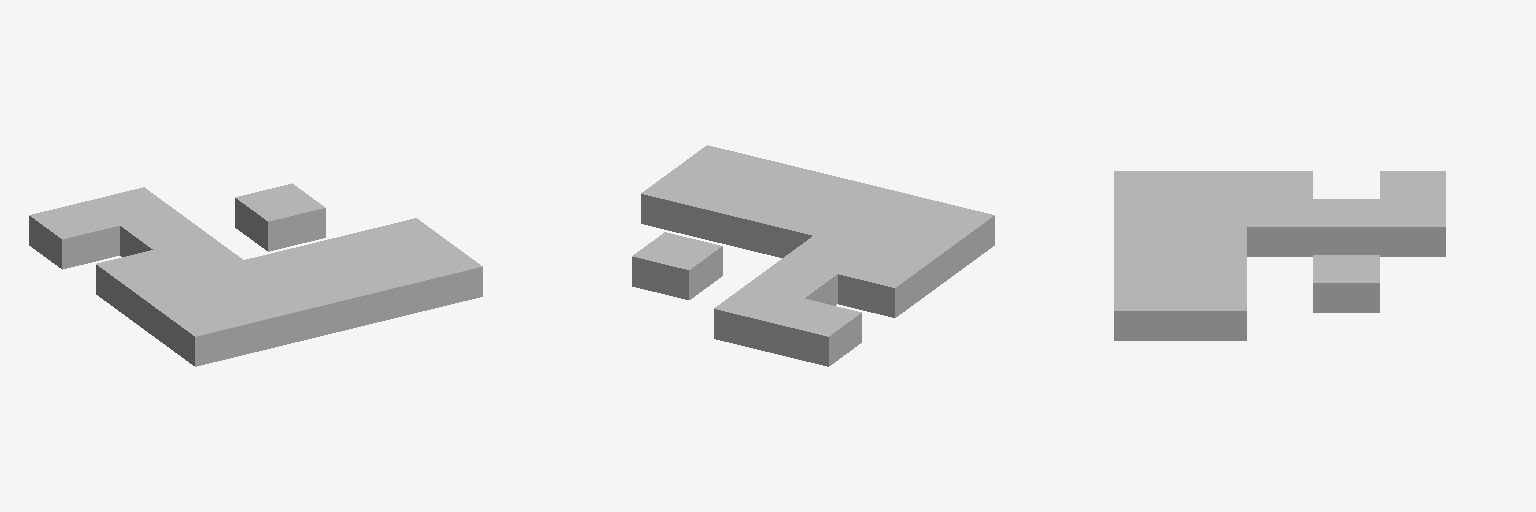
File: 83f_block.obj
3 views of the same model, side by side, from view 1: azimuth 30°, elevation 25°; view 2: azimuth 150°, elevation 25°; view 3: azimuth 270°, elevation 25° (orthographic).
Visible parts, largest first — view 1: foil.block.0.4_block.5360, foil.block.0.0_block.5356, foil.block.3.3_block.5370, foil.block.4.0_block.5371, foil.block.2.0_block.5366, foil.block.1.0_block.5361, foil.block.3.0_block.5368, foil.block.0.2_block.5358, foil.block.0.1_block.5357, foil.block.1.3_block.5364, foil.block.1.1_block.5362, foil.block.2.1_block.5367 (+4 smaller); view 2: foil.block.3.3_block.5370, foil.block.0.4_block.5360, foil.block.0.2_block.5358, foil.block.3.1_block.5369, foil.block.4.1_block.5372, foil.block.1.4_block.5365, foil.block.2.1_block.5367, foil.block.0.1_block.5357, foil.block.0.0_block.5356, foil.block.1.3_block.5364, foil.block.2.0_block.5366, foil.block.1.1_block.5362 (+4 smaller); view 3: foil.block.3.3_block.5370, foil.block.4.1_block.5372, foil.block.1.2_block.5363, foil.block.1.4_block.5365, foil.block.4.0_block.5371, foil.block.1.3_block.5364, foil.block.0.1_block.5357, foil.block.1.1_block.5362, foil.block.2.1_block.5367, foil.block.3.1_block.5369, foil.block.0.0_block.5356, foil.block.0.2_block.5358 (+4 smaller).
Part boxes in pixels (bbox=[...]): foil.block.0.4_block.5360: bbox=[29, 201, 119, 269]; foil.block.0.0_block.5356: bbox=[162, 298, 252, 366]; foil.block.3.3_block.5370: bbox=[235, 183, 325, 251]; foil.block.4.0_block.5371: bbox=[392, 242, 482, 310]; foil.block.2.0_block.5366: bbox=[277, 270, 367, 338]; foil.block.1.0_block.5361: bbox=[220, 285, 309, 352]; foil.block.3.0_block.5368: bbox=[335, 257, 424, 324]; foil.block.0.2_block.5358: bbox=[96, 250, 184, 317]; foil.block.0.1_block.5357: bbox=[129, 274, 218, 341]; foil.block.1.3_block.5364: bbox=[120, 212, 209, 256]; foil.block.1.1_block.5362: bbox=[187, 260, 276, 297]; foil.block.2.1_block.5367: bbox=[244, 246, 333, 283]; foil.block.3.3_block.5370: bbox=[632, 232, 722, 299]; foil.block.0.4_block.5360: bbox=[771, 298, 861, 366]; foil.block.0.2_block.5358: bbox=[838, 250, 927, 317]; foil.block.3.1_block.5369: bbox=[698, 183, 788, 251]; foil.block.4.1_block.5372: bbox=[641, 169, 730, 237]; foil.block.1.4_block.5365: bbox=[714, 285, 803, 352]; foil.block.2.1_block.5367: bbox=[756, 198, 846, 257]; foil.block.0.1_block.5357: bbox=[871, 226, 961, 293]; foil.block.0.0_block.5356: bbox=[904, 201, 994, 268]; foil.block.1.3_block.5364: bbox=[747, 260, 837, 305]; foil.block.2.0_block.5366: bbox=[789, 173, 878, 210]; foil.block.1.1_block.5362: bbox=[814, 212, 903, 249]; foil.block.3.3_block.5370: bbox=[1313, 255, 1379, 312]; foil.block.4.1_block.5372: bbox=[1180, 283, 1246, 340]; foil.block.1.2_block.5363: bbox=[1247, 199, 1312, 256]; foil.block.1.4_block.5365: bbox=[1380, 199, 1445, 256]; foil.block.4.0_block.5371: bbox=[1114, 283, 1179, 340]; foil.block.1.3_block.5364: bbox=[1313, 199, 1379, 254]; foil.block.0.1_block.5357: bbox=[1180, 171, 1246, 198]; foil.block.1.1_block.5362: bbox=[1180, 199, 1246, 226]; foil.block.2.1_block.5367: bbox=[1180, 227, 1246, 254]; foil.block.3.1_block.5369: bbox=[1180, 255, 1246, 282]; foil.block.0.0_block.5356: bbox=[1114, 171, 1179, 198]; foil.block.0.2_block.5358: bbox=[1247, 171, 1312, 198].
Bounding box in the file's own units: 10 × 1 × 10.